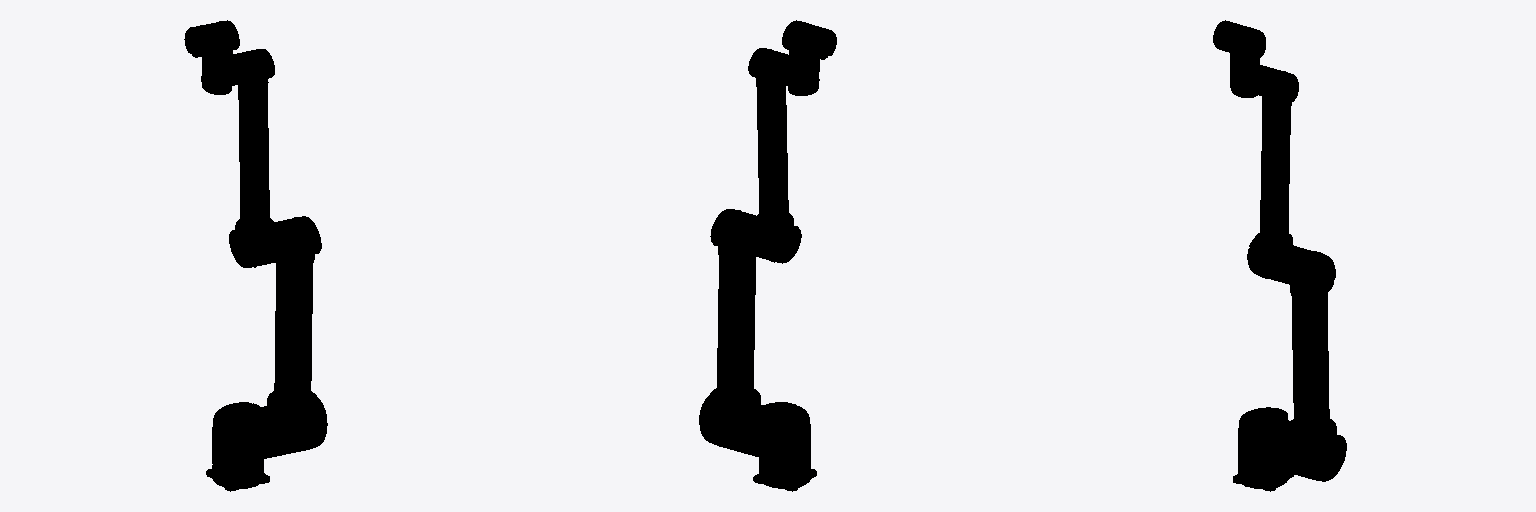
robot.urdf — ur10e:
<?xml version="1.0" encoding="utf-8"?>
<!-- This URDF was automatically created by SolidWorks to URDF Exporter! Originally created by Stephen Brawner ([email redacted]) 
     Commit Version: 1.6.0-1-g15f4949  Build Version: 1.6.7594.29634
     For more information, please see http://wiki.ros.org/sw_urdf_exporter -->
<robot name="ur10e">
  <link name="world" />
  <joint name="fixed" type="fixed">
    <parent link="world" />
    <child link="base_link" />
  </joint>
  <link name="base_link">
    <inertial>
      <origin xyz="6.99102964918878E-06 0.0184354408078916 0.000159353466286333" rpy="0 0 0" />
      <mass value="0.706324320048481" />
      <inertia ixx="0.00115557612300412" ixy="7.8755298982374E-08" ixz="-4.80084221930866E-08" iyy="0.00212897019309279" iyz="-1.99544890443479E-07" izz="0.00114584540440243" />
    </inertial>
    <visual>
      <origin xyz="0 0 0" rpy="0 0 0" />
      <geometry>
        <mesh filename="package://ur10e/meshes/base_link.STL" />
      </geometry>
      <material name="">
        <color rgba="0 0 0 1" />
      </material>
    </visual>
    <collision>
      <origin xyz="0 0 0" rpy="0 0 0" />
      <geometry>
        <mesh filename="package://ur10e/meshes/base_link.STL" />
      </geometry>
    </collision>
  </link>
  <link name="motor_1">
    <inertial>
      <origin xyz="0.01158933358646 -0.000768670071824068 0.0784762359453558" rpy="0 0 0" />
      <mass value="3.07354096261003" />
      <inertia ixx="0.0107199155728018" ixy="5.01684586326567E-05" ixz="-0.000856605171120839" iyy="0.0114737929251521" iyz="5.74906624660398E-05" izz="0.0101197358967531" />
    </inertial>
    <visual>
      <origin xyz="0 0 0" rpy="0 0 0" />
      <geometry>
        <mesh filename="package://ur10e/meshes/motor_1.STL" />
      </geometry>
      <material name="">
        <color rgba="0 0 0 1" />
      </material>
    </visual>
    <collision>
      <origin xyz="0 0 0" rpy="0 0 0" />
      <geometry>
        <mesh filename="package://ur10e/meshes/motor_1.STL" />
      </geometry>
    </collision>
  </link>
  <joint name="motor_1_revolute" type="revolute">
    <origin xyz="0 0 0.038" rpy="0 0 0" />
    <parent link="base_link" />
    <child link="motor_1" />
    <axis xyz="0 0 -1" />
    <limit lower="-3.14" upper="3.14" effort="100" velocity="10" />
  </joint>
  <link name="motor_2">
    <inertial>
      <origin xyz="0.0836957994792213 -0.0124997941454054 0.250947464020631" rpy="0 0 0" />
      <mass value="8.71244672305977" />
      <inertia ixx="0.0949250367073149" ixy="0.000114307340305228" ixz="-0.000447792490631789" iyy="0.0964585009461135" iyz="0.00216122784445799" izz="0.0199762473506872" />
    </inertial>
    <visual>
      <origin xyz="0 0 0" rpy="0 0 0" />
      <geometry>
        <mesh filename="package://ur10e/meshes/motor_2.STL" />
      </geometry>
      <material name="">
        <color rgba="0 0 0 1" />
      </material>
    </visual>
    <collision>
      <origin xyz="0 0 0" rpy="0 0 0" />
      <geometry>
        <mesh filename="package://ur10e/meshes/motor_2.STL" />
      </geometry>
    </collision>
  </link>
  <joint name="motor_2_revolute" type="revolute">
    <origin xyz="0.085814 -0.0056588 0.09" rpy="0 0 0" />
    <parent link="motor_1" />
    <child link="motor_2" />
    <axis xyz="-0.99783 0.065799 0" />
    <limit lower="-3.14" upper="3.14" effort="5000" velocity="10" />
  </joint>
  <link name="motor_3">
    <inertial>
      <origin xyz="-0.0588206779795152 0.0125383741253737 0.256779950005447" rpy="0 0 0" />
      <mass value="4.6534535922044" />
      <inertia ixx="0.0514260111054704" ixy="2.64109842069441E-05" ixz="0.000209867803908835" iyy="0.0516584013489174" iyz="-0.00155612962239964" izz="0.00600707507711582" />
    </inertial>
    <visual>
      <origin xyz="0 0 0" rpy="0 0 0" />
      <geometry>
        <mesh filename="package://ur10e/meshes/motor_3.STL" />
      </geometry>
      <material name="">
        <color rgba="0 0 0 1" />
      </material>
    </visual>
    <collision>
      <origin xyz="0 0 0" rpy="0 0 0" />
      <geometry>
        <mesh filename="package://ur10e/meshes/motor_3.STL" />
      </geometry>
    </collision>
  </link>
  <joint name="motor_3_revolute" type="revolute">
    <origin xyz="0.020723 -0.018428 0.61266" rpy="0 0 0" />
    <parent link="motor_2" />
    <child link="motor_3" />
    <axis xyz="-0.99783 0.065799 0" />
    <limit lower="-3.14" upper="3.14" effort="2000" velocity="10" />
  </joint>
  <link name="motor_4">
    <inertial>
      <origin xyz="-0.0463163888870383 0.00274623653692133 0.00974304711898455" rpy="0 0 0" />
      <mass value="0.72850475798328" />
      <inertia ixx="0.00103090961212793" ixy="2.52090874057504E-06" ixz="9.10545325046022E-05" iyy="0.00111481948492859" iyz="1.66737237134338E-06" izz="0.000884008126514727" />
    </inertial>
    <visual>
      <origin xyz="0 0 0" rpy="0 0 0" />
      <geometry>
        <mesh filename="package://ur10e/meshes/motor_4.STL" />
      </geometry>
      <material name="">
        <color rgba="0 0 0 1" />
      </material>
    </visual>
    <collision>
      <origin xyz="0 0 0" rpy="0 0 0" />
      <geometry>
        <mesh filename="package://ur10e/meshes/motor_4.STL" />
      </geometry>
    </collision>
  </link>
  <joint name="motor_4_revolute" type="revolute">
    <origin xyz="-0.11987 0.027161 0.57127" rpy="0 0 0" />
    <parent link="motor_3" />
    <child link="motor_4" />
    <axis xyz="-0.99783 0.065799 0" />
    <limit lower="-3.14" upper="3.14" effort="59" velocity="10" />
  </joint>
  <link name="motor_5">
    <inertial>
      <origin xyz="-0.00980381073966434 -0.000713977541418622 0.0463767932630754" rpy="0 0 0" />
      <mass value="0.728506024857824" />
      <inertia ixx="0.000884993317438275" ixy="1.64279052344726E-05" ixz="9.07464017097927E-05" iyy="0.00111382623532637" iyz="-4.88785547036715E-06" izz="0.00103090519879602" />
    </inertial>
    <visual>
      <origin xyz="0 0 0" rpy="0 0 0" />
      <geometry>
        <mesh filename="package://ur10e/meshes/motor_5.STL" />
      </geometry>
      <material name="">
        <color rgba="0 0 0 1" />
      </material>
    </visual>
    <collision>
      <origin xyz="0 0 0" rpy="0 0 0" />
      <geometry>
        <mesh filename="package://ur10e/meshes/motor_5.STL" />
      </geometry>
    </collision>
  </link>
  <joint name="motor_5_revolute" type="revolute">
    <origin xyz="-0.054015 0.0015515 0.061678" rpy="0 0 0" />
    <parent link="motor_4" />
    <child link="motor_5" />
    <axis xyz="-0.0021575 -0.032718 0.99946" />
    <limit lower="-3.14" upper="3.14" effort="49" velocity="10" />
  </joint>
  <link name="motor_6">
    <inertial>
      <origin xyz="-0.0129928323598203 0.00108869265014476 0.000957366865865339" rpy="0 0 0" />
      <mass value="0.159236531830185" />
      <inertia ixx="0.000149157807902669" ixy="-5.65214292769788E-06" ixz="4.33097396976424E-07" iyy="8.23860197774619E-05" iyz="-5.54543686278559E-08" izz="8.77577003542501E-05" />
    </inertial>
    <visual>
      <origin xyz="0 0 0" rpy="0 0 0" />
      <geometry>
        <mesh filename="package://ur10e/meshes/motor_6.STL" />
      </geometry>
      <material name="">
        <color rgba="0 0 0 1" />
      </material>
    </visual>
    <collision>
      <origin xyz="0 0 0" rpy="0 0 0" />
      <geometry>
        <mesh filename="package://ur10e/meshes/motor_6.STL" />
      </geometry>
    </collision>
  </link>
  <joint name="motor_6_revolute" type="revolute">
    <origin xyz="-0.0616 0.0033916 0.054007" rpy="0 0 0" />
    <parent link="motor_5" />
    <child link="motor_6" />
    <axis xyz="-0.99649 0.083733 0.00058998" />
    <limit lower="-3.14" upper="3.14" effort="39" velocity="10" />
  </joint>

  <transmission name="motor_1_revolute_trans">
    <type>transmission_interface/SimpleTransmission</type>
    <joint name="motor_1_revolute">
      <hardwareInterface>hardware_interface/EffortJointInterface</hardwareInterface>
    </joint>
    <actuator name="motor_1_actuator">
      <mechanicalReduction>50</mechanicalReduction>
      <hardwareInterface>hardware_interface/EffortJointInterface</hardwareInterface>
    </actuator>
  </transmission>

  <transmission name="motor_2_revolute_trans">
    <type>transmission_interface/SimpleTransmission</type>
    <joint name="motor_2_revolute">
      <hardwareInterface>hardware_interface/EffortJointInterface</hardwareInterface>
    </joint>
    <actuator name="motor_2_actuator">
      <mechanicalReduction>50</mechanicalReduction>
      <hardwareInterface>hardware_interface/EffortJointInterface</hardwareInterface>
    </actuator>
  </transmission>

  <transmission name="motor_3_revolute_trans">
    <type>transmission_interface/SimpleTransmission</type>
    <joint name="motor_3_revolute">
      <hardwareInterface>hardware_interface/EffortJointInterface</hardwareInterface>
    </joint>
    <actuator name="motor_3_actuator">
      <mechanicalReduction>50</mechanicalReduction>
      <hardwareInterface>hardware_interface/EffortJointInterface</hardwareInterface>
    </actuator>
  </transmission>

  <transmission name="motor_4_revolute_trans">
    <type>transmission_interface/SimpleTransmission</type>
    <joint name="motor_4_revolute">
      <hardwareInterface>hardware_interface/EffortJointInterface</hardwareInterface>
    </joint>
    <actuator name="motor_4_actuator">
      <mechanicalReduction>50</mechanicalReduction>
      <hardwareInterface>hardware_interface/EffortJointInterface</hardwareInterface>
    </actuator>
  </transmission>

  <transmission name="motor_5_revolute_trans">
    <type>transmission_interface/SimpleTransmission</type>
    <joint name="motor_5_revolute">
      <hardwareInterface>hardware_interface/EffortJointInterface</hardwareInterface>
    </joint>
    <actuator name="motor_5_actuator">
      <mechanicalReduction>50</mechanicalReduction>
      <hardwareInterface>hardware_interface/EffortJointInterface</hardwareInterface>
    </actuator>
  </transmission>

  <transmission name="motor_6_revolute_trans">
    <type>transmission_interface/SimpleTransmission</type>
    <joint name="motor_6_revolute">
      <hardwareInterface>hardware_interface/EffortJointInterface</hardwareInterface>
    </joint>
    <actuator name="motor_6_actuator">
      <mechanicalReduction>50</mechanicalReduction>
      <hardwareInterface>hardware_interface/EffortJointInterface</hardwareInterface>
    </actuator>
  </transmission>

  <gazebo>
    <plugin name="gazebo_ros_control" filename="libgazebo_ros_control.so">
      <robotNamespace>/ur10e</robotNamespace>
      <robotSimType>gazebo_ros_control/DefaultRobotHWSim </robotSimType>
      <legacyModeNS>true</legacyModeNS>
    </plugin>
  </gazebo>

</robot>

--- Render facts (derived) ---
3 views of the same robot in one strip: view 1: azimuth 30°, elevation 25°; view 2: azimuth 150°, elevation 25°; view 3: azimuth 330°, elevation 25° (orthographic).
Model ur10e with 8 links and 7 joints (6 revolute, 1 fixed), rooted at world, posed every joint at zero.
Visible links, largest first — view 1: motor_2, motor_3, motor_1, motor_5, motor_4, base_link; view 2: motor_2, motor_3, motor_1, motor_4, motor_5, base_link, motor_6; view 3: motor_2, motor_3, motor_1, motor_5, motor_4, base_link.
Link boxes in pixels (box(x1,y1,x2,y2)): motor_2: box(261, 216, 327, 457); motor_3: box(229, 49, 282, 267); motor_1: box(212, 402, 275, 476); motor_5: box(196, 20, 239, 60); motor_4: box(201, 56, 240, 94); base_link: box(206, 467, 269, 491); motor_2: box(699, 209, 763, 454); motor_3: box(746, 48, 801, 263); motor_1: box(746, 402, 810, 476); motor_4: box(780, 57, 819, 95); motor_5: box(782, 20, 825, 61); base_link: box(753, 467, 816, 491); motor_6: box(813, 29, 836, 59); motor_2: box(1273, 246, 1346, 481); motor_3: box(1247, 66, 1298, 282); motor_1: box(1238, 407, 1289, 477); motor_5: box(1219, 22, 1265, 63); motor_4: box(1230, 59, 1262, 97); base_link: box(1233, 468, 1293, 491).
Bounding box of the posed robot: 0.4257 × 0.1655 × 1.47 m (x, y, z).
7 mesh visuals loaded from 7 distinct referenced files (7 binary STL).
